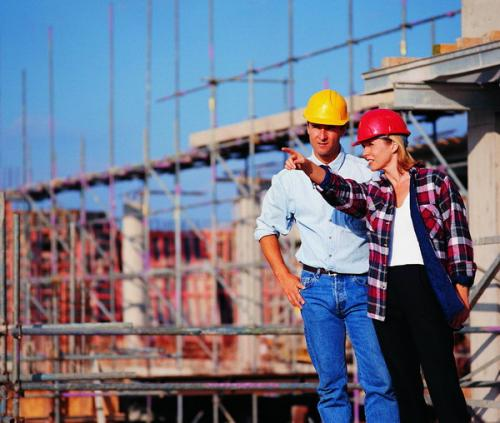hard-hat: (351, 107, 411, 146), (303, 89, 350, 125)
person: (281, 107, 479, 423), (254, 89, 406, 423)
